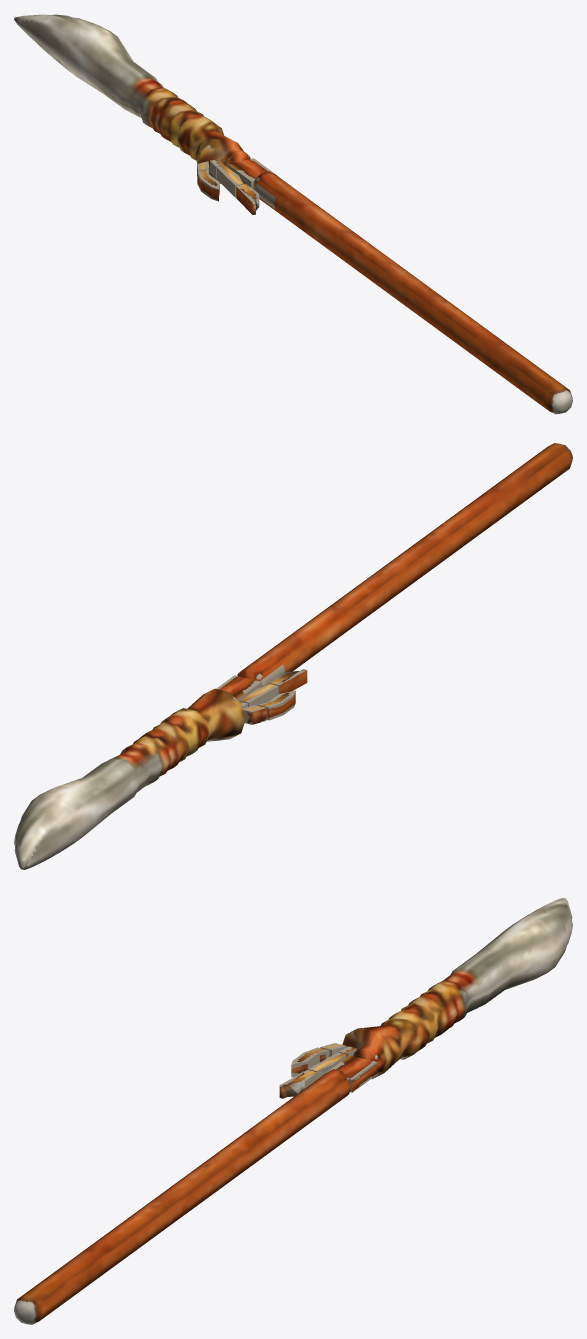
File: item_mm9_10056.glb
The picture shows the model from 3 angles, top to bottom: view 1: azimuth 30°, elevation 25°; view 2: azimuth 150°, elevation 25°; view 3: azimuth 330°, elevation 25°; orthographic projection. The views are drawn at different scales.
Visible parts, largest first — view 1: d10056; view 2: d10056; view 3: d10056.
Part boxes in pixels (x1=…): d10056: x1=14, y1=14, x2=572, y2=414; d10056: x1=14, y1=443, x2=572, y2=869; d10056: x1=14, y1=898, x2=572, y2=1324.
Bounding box in the file's own units: 22.09 × 13.29 × 257.
1 material, 1 textured.
